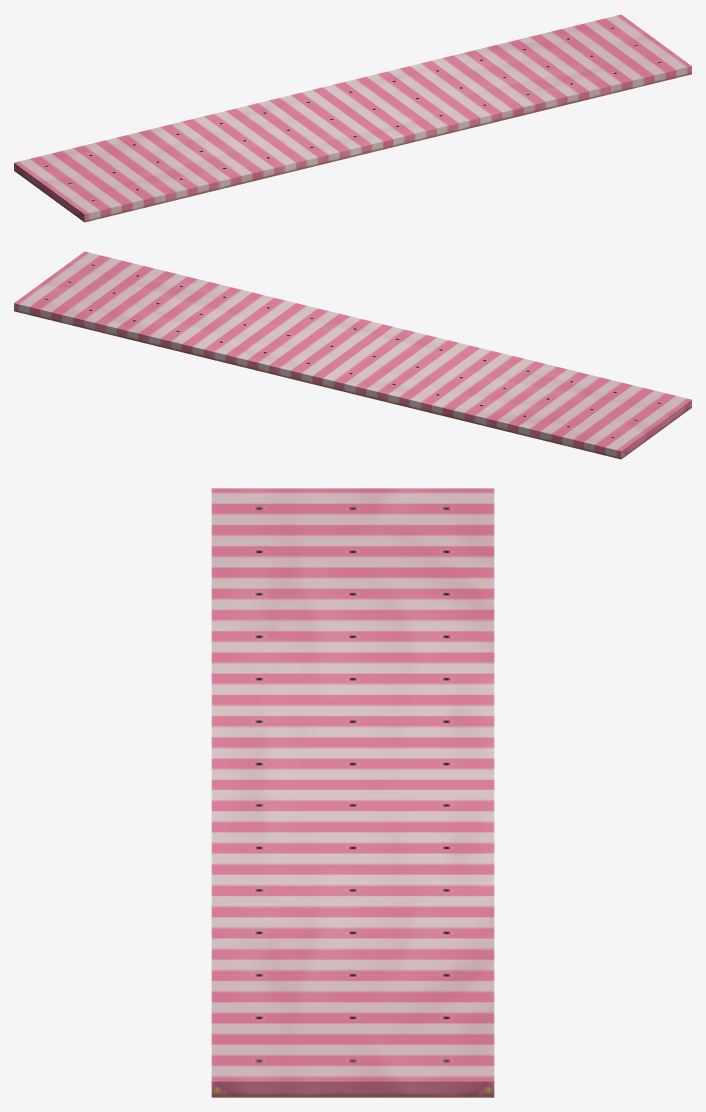
File: jsf_DisplayShelf_01.fbx
3 views of the same model, one above another, from view 1: azimuth 30°, elevation 25°; view 2: azimuth 150°, elevation 25°; view 3: azimuth 270°, elevation 25° (orthographic). The views are drawn at different scales.
Visible parts, largest first — view 1: jsf_DisplayShelf_01; view 2: jsf_DisplayShelf_01; view 3: jsf_DisplayShelf_01.
Part boxes in pixels (x1,y1,x2,y2): jsf_DisplayShelf_01: (14,14,691,222); jsf_DisplayShelf_01: (14,251,691,459); jsf_DisplayShelf_01: (211,488,494,1097).
Bounding box in the file's own units: 149 × 1.91 × 30.01.
